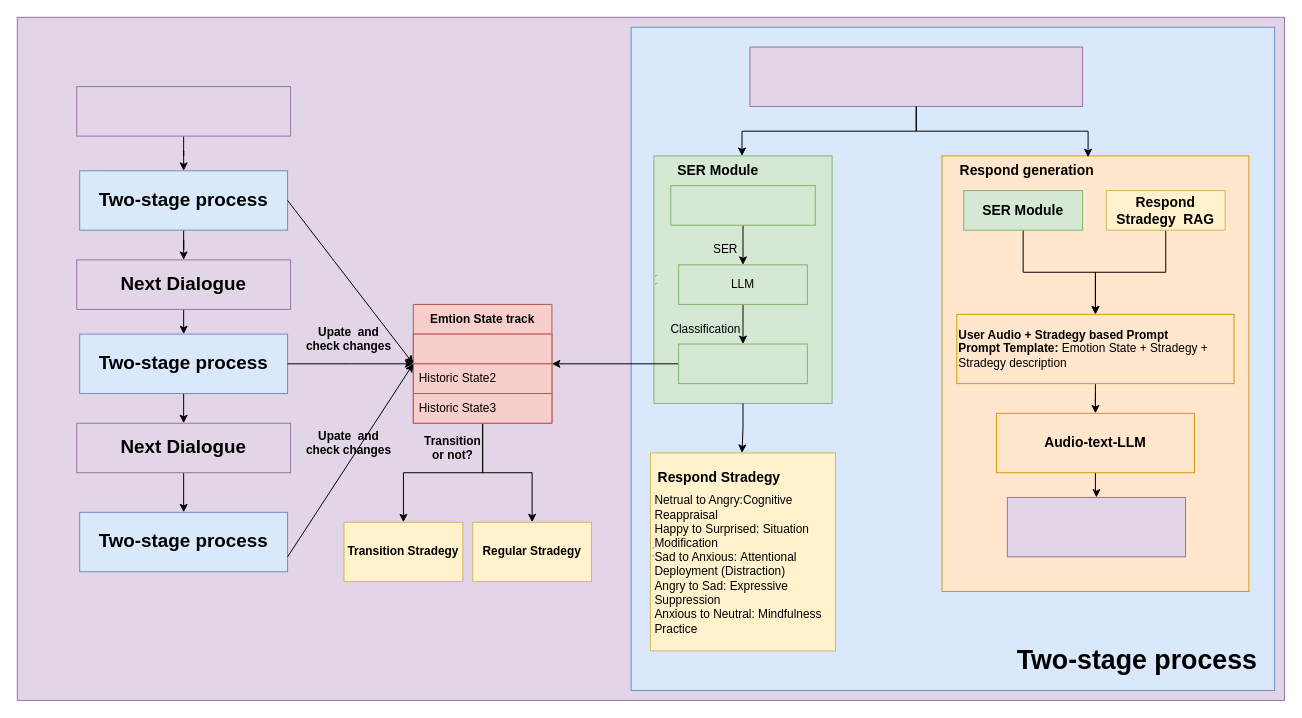
Image size: 1302x718. Some labels were removed from this diagram. The centre of each missing label's shape, as x and y in pixels:
Emotion State: (742,363)
Historic State1: (482,348)
LLM text response: (1096,526)
New Audio: (183,111)
User Audio only Input: (916,76)
User Audio+Classification Prompt: (742,205)
